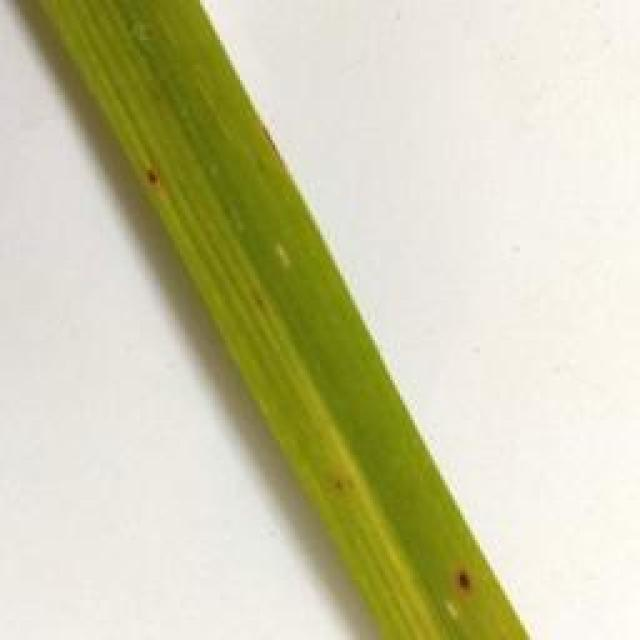Brown_Spot: (242, 294, 286, 336), (322, 480, 363, 504), (138, 161, 166, 194), (442, 573, 486, 593)
